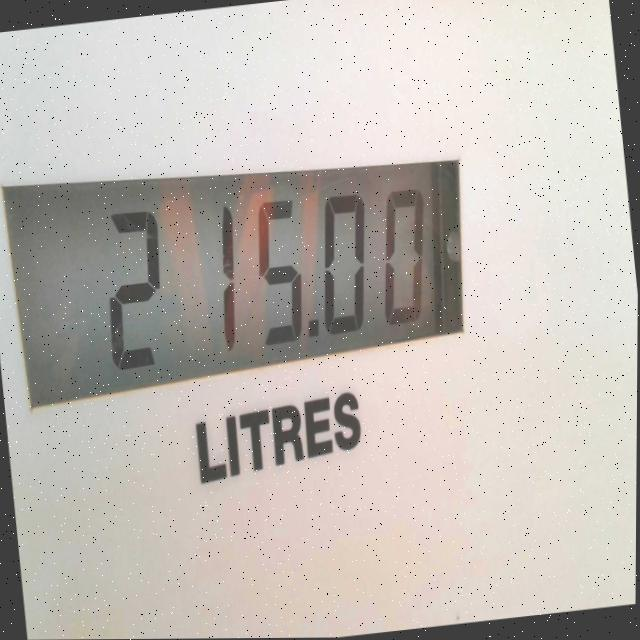.: (298, 309, 325, 350)
0: (309, 184, 383, 342), (367, 178, 433, 323)
1: (195, 194, 252, 356)
2: (84, 184, 176, 376)
5: (247, 187, 314, 348)
